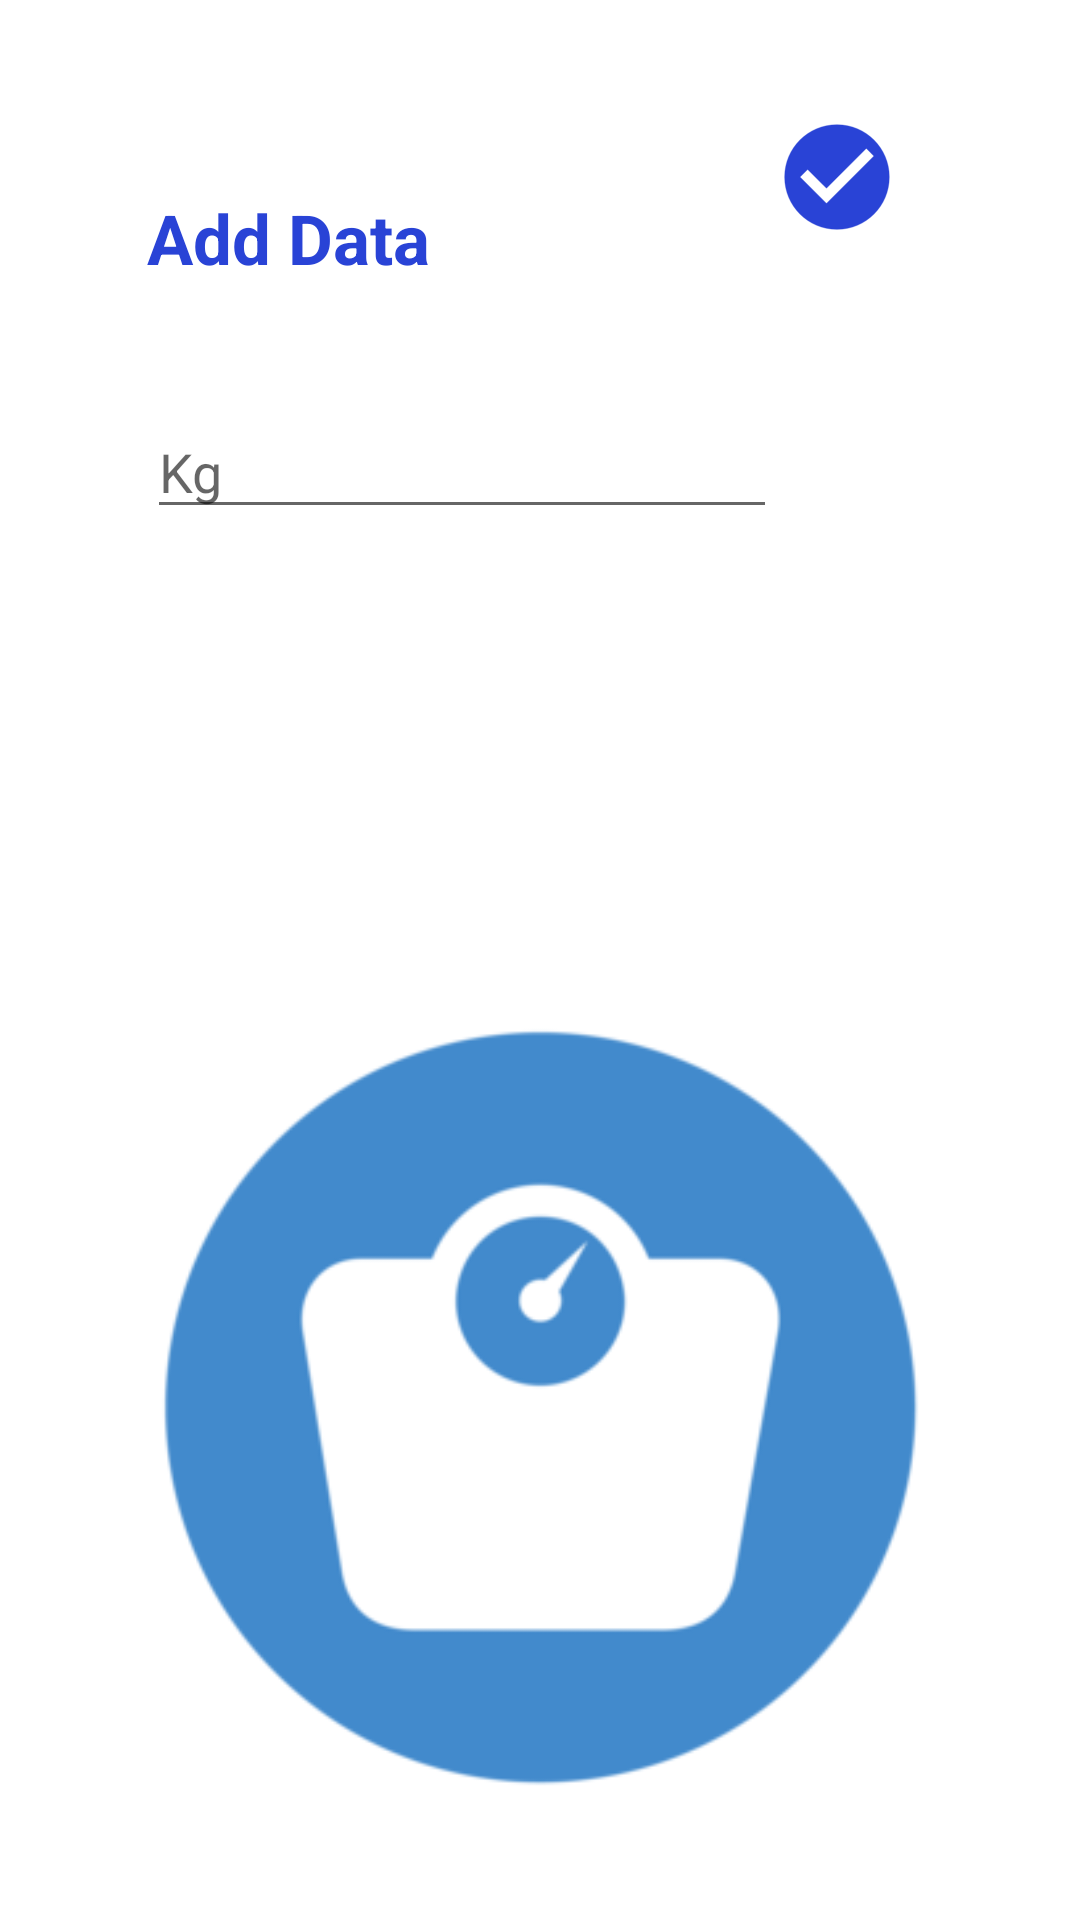

Where icons sit on this 1080px×1920px app screen, as (x1, y1, x2, y2):
saveblue: (784, 124, 890, 230)
